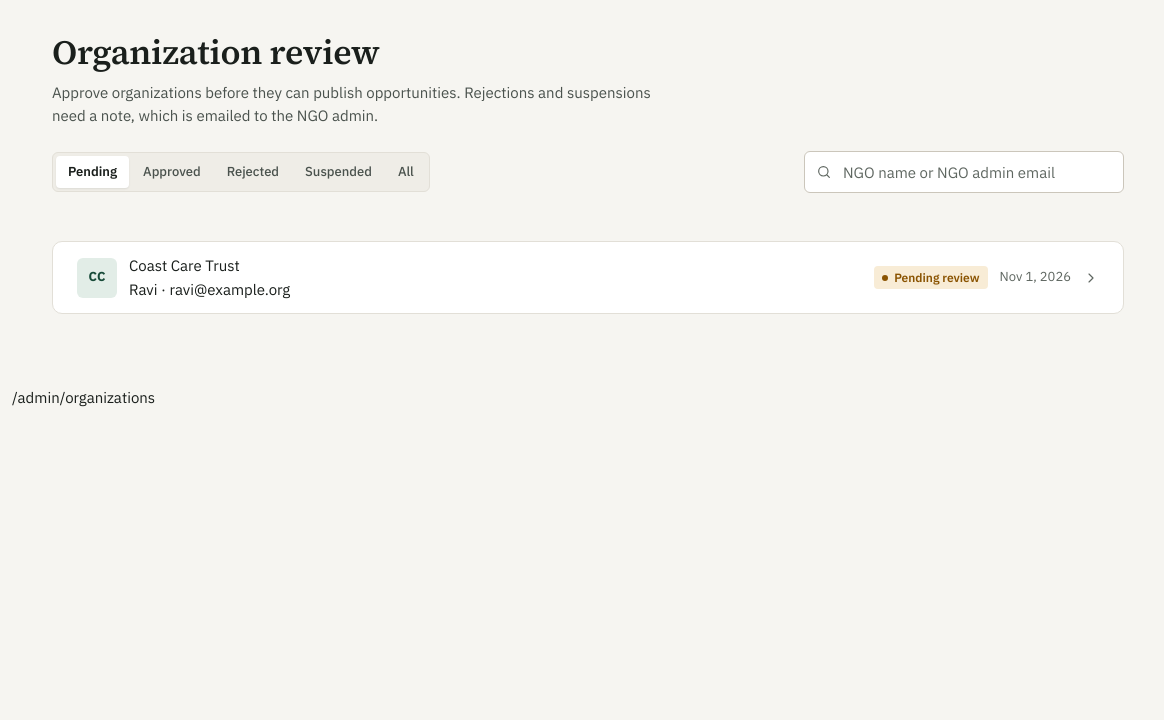
Scenario: Organization review › approves an organization
Click the button "Coast Care Trust" at (97, 278), box [53,242,1123,313]
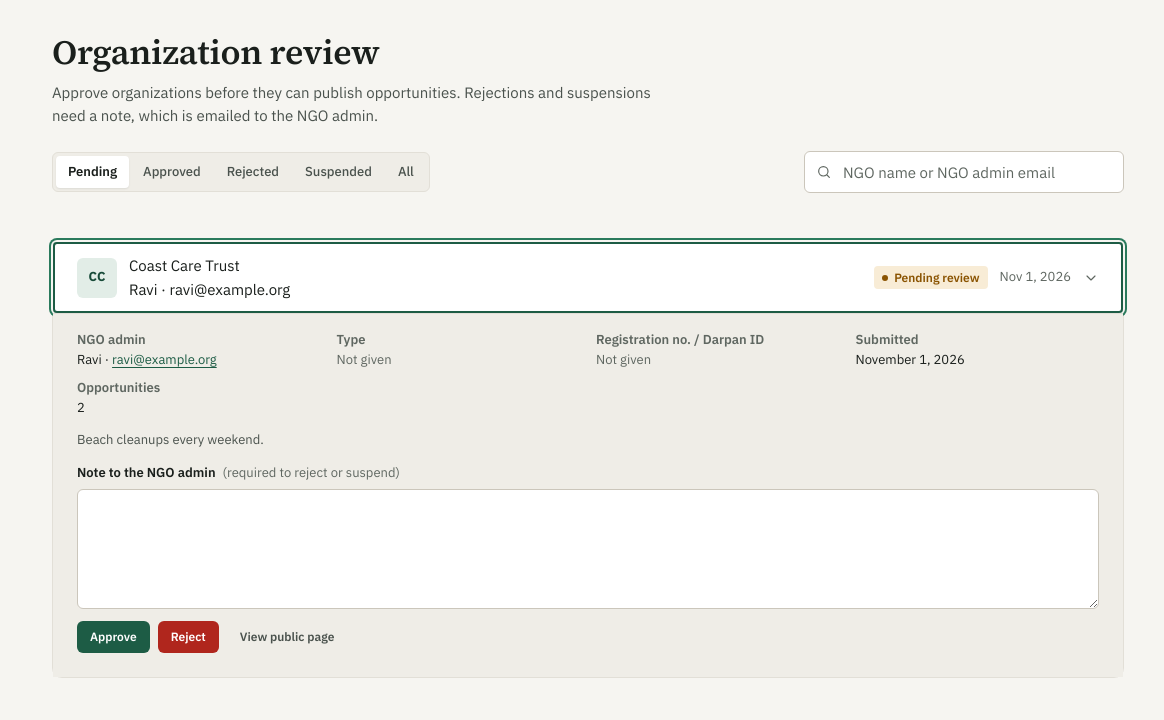
Expected: the text "Beach cleanups every weekend." is shown, [77,431,264,448]
Click the button "Approve" at (113, 637), box [77,621,150,653]
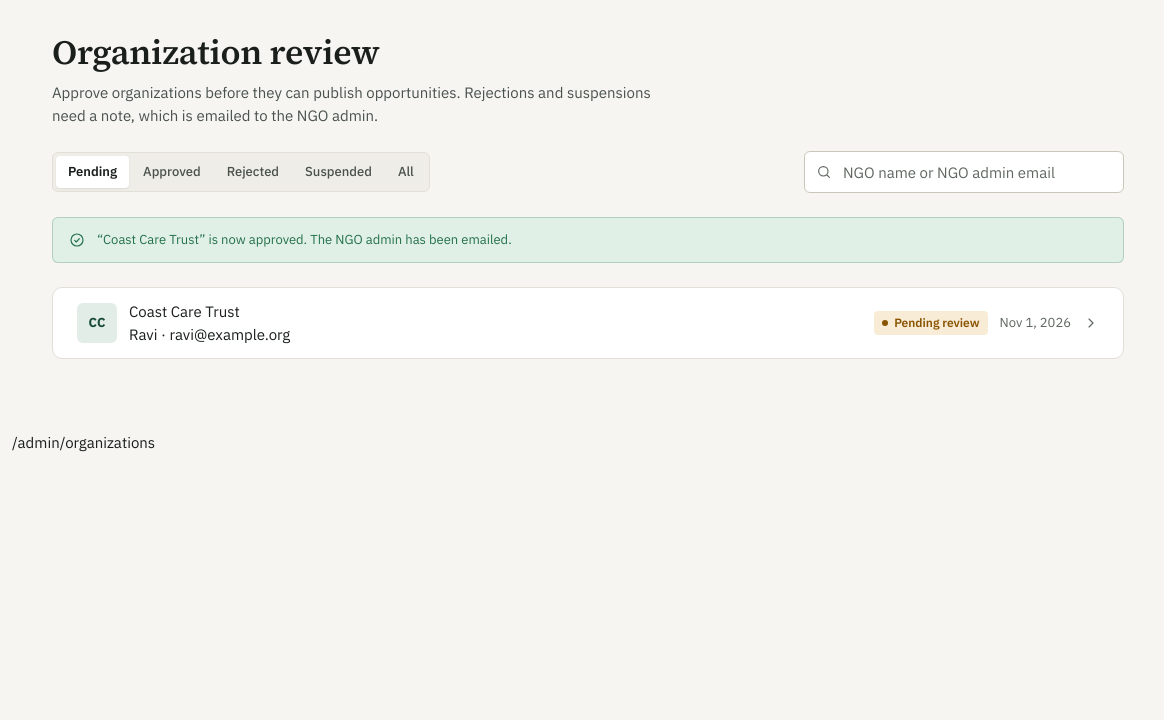
Expected: the text "is now approved. The NGO admin has been emailed." is shown, [97,231,512,248]
